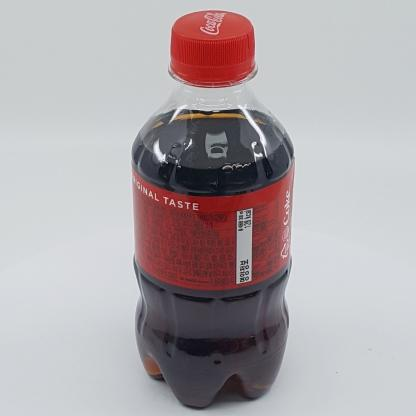--------300ML: (131, 10, 295, 408)
